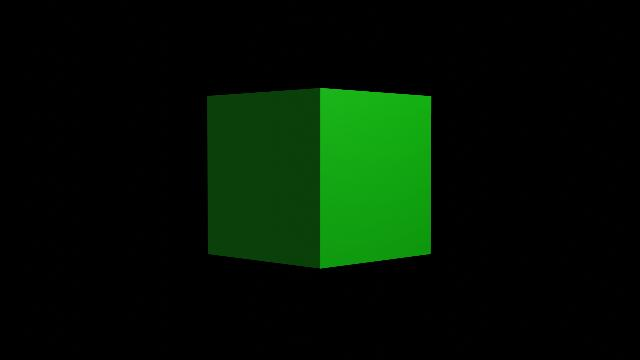Cube: (194, 77, 446, 280)
